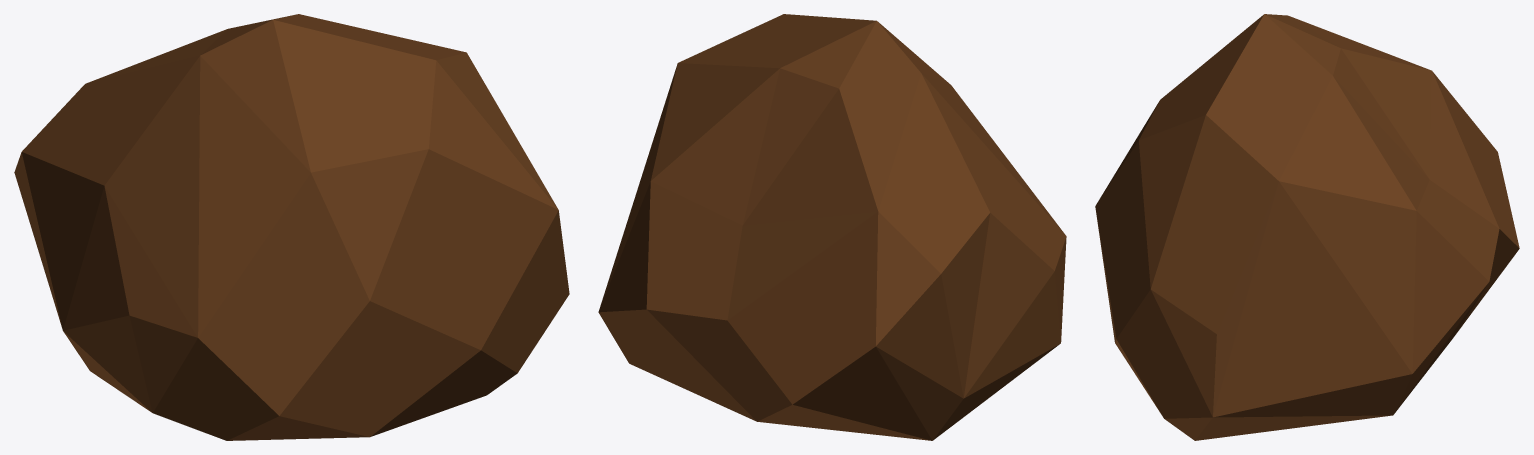
The model's file is Large_Rock2.fbx.
3 renders of one model, left to right at view 1: azimuth 30°, elevation 25°; view 2: azimuth 150°, elevation 25°; view 3: azimuth 270°, elevation 25°, orthographic. The views are drawn at different scales.
Parts seen in each view (by area): view 1: Large_Rock2; view 2: Large_Rock2; view 3: Large_Rock2.
Boxes of the visible parts, x1,y1,x2,y2 form: Large_Rock2: (14, 14, 569, 440); Large_Rock2: (598, 14, 1066, 440); Large_Rock2: (1095, 14, 1519, 440).
Size of the model in its own units: 5.78 by 4.99 by 5.46.
